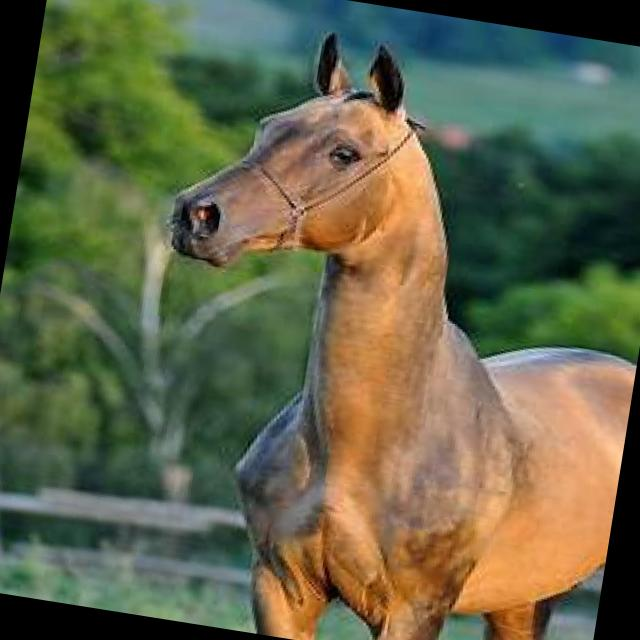animal: (105, 9, 640, 640)
